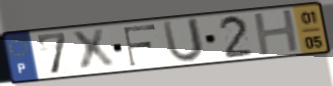2: (218, 13, 255, 60)
7: (35, 31, 70, 77)
F: (122, 23, 159, 68)
H: (251, 7, 303, 58)
U: (160, 16, 207, 65)
X: (68, 27, 119, 74)
